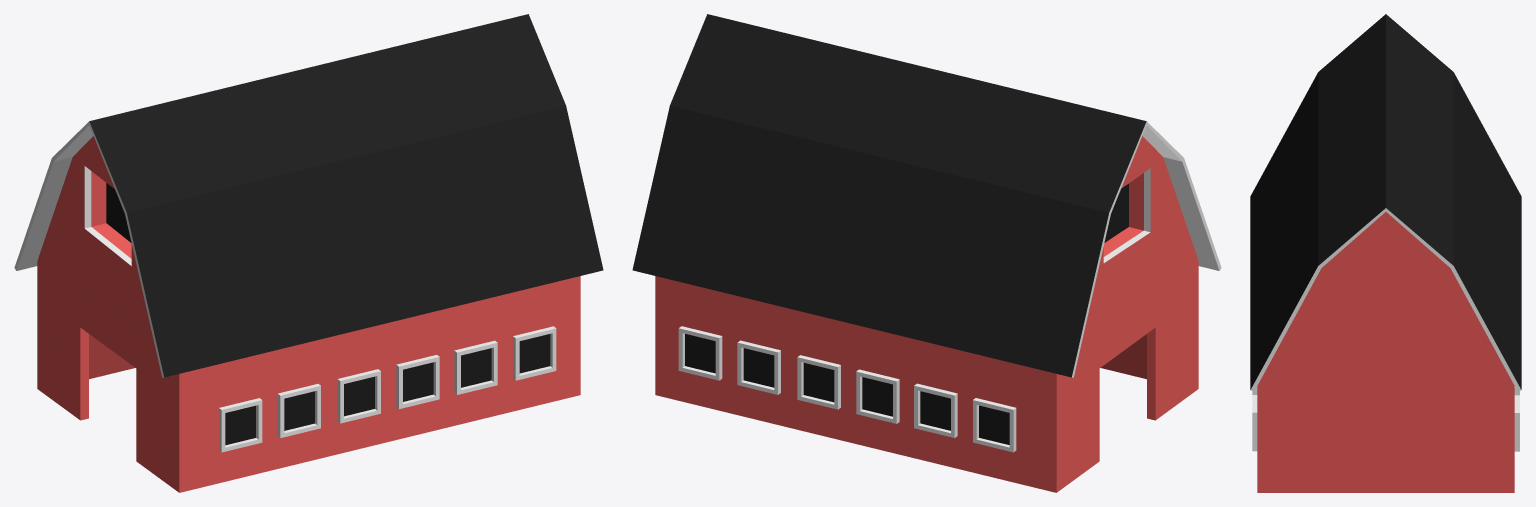
The model's file is Barn.fbx.
The picture shows the model from 3 angles, left to right: view 1: azimuth 30°, elevation 25°; view 2: azimuth 150°, elevation 25°; view 3: azimuth 270°, elevation 25°; orthographic projection. The views are drawn at different scales.
Visible parts, largest first — view 1: Plane, Cube, Cube.001, Cube.004, Cube.005, Cube.003, Cube.006, Cube.002; view 2: Plane, Cube, Cube.012, Cube.008, Cube.009, Cube.011, Cube.010, Cube.007; view 3: Plane, Cube, Cube.012, Cube.006.
Part boxes in pixels (left/top/right/bottom): Plane: left=14, top=14, right=603, bottom=377; Cube: left=37, top=136, right=580, bottom=492; Cube.001: left=219, top=398, right=262, bottom=452; Cube.004: left=337, top=369, right=380, bottom=423; Cube.005: left=454, top=340, right=497, bottom=394; Cube.003: left=396, top=355, right=439, bottom=409; Cube.006: left=513, top=326, right=556, bottom=380; Cube.002: left=277, top=384, right=320, bottom=437; Plane: left=632, top=14, right=1221, bottom=377; Cube: left=655, top=136, right=1198, bottom=492; Cube.012: left=678, top=326, right=722, bottom=380; Cube.008: left=914, top=383, right=957, bottom=437; Cube.009: left=797, top=355, right=840, bottom=409; Cube.011: left=737, top=340, right=780, bottom=394; Cube.010: left=856, top=369, right=899, bottom=423; Cube.007: left=973, top=398, right=1016, bottom=452; Plane: left=1250, top=14, right=1521, bottom=391; Cube: left=1257, top=212, right=1514, bottom=492; Cube.012: left=1514, top=395, right=1519, bottom=451; Cube.006: left=1252, top=395, right=1257, bottom=451.
Size of the model in its own units: 357 by 252 by 211.
